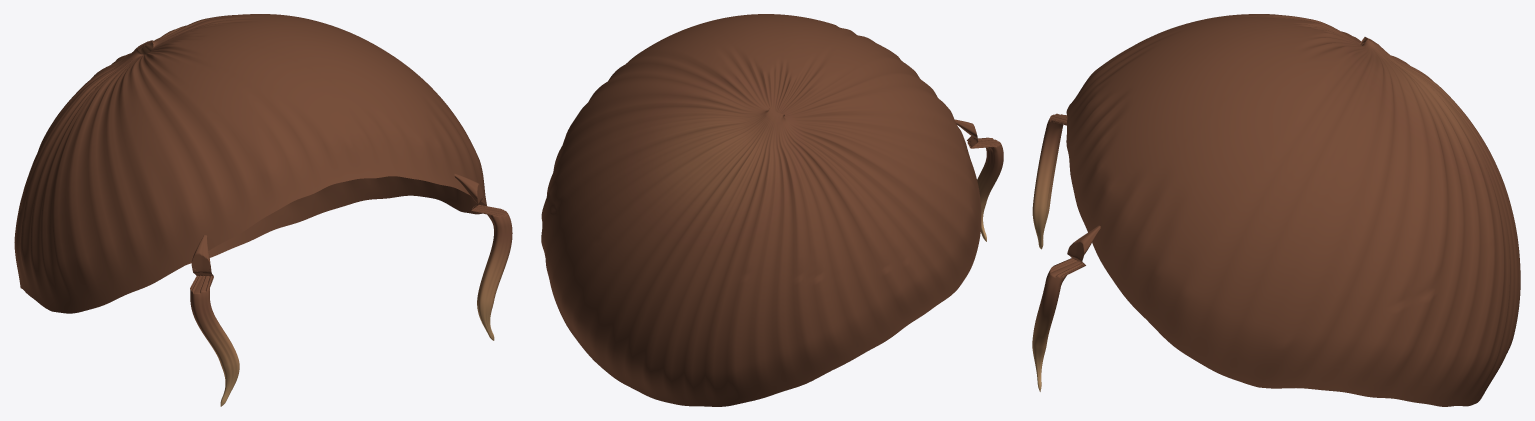
File: ponytail-beanie-fringe-ombre.glb
3 views of the same model, side by side, from view 1: azimuth 30°, elevation 25°; view 2: azimuth 150°, elevation 25°; view 3: azimuth 270°, elevation 25° (orthographic). The views are drawn at different scales.
Parts seen in each view (by area): view 1: 226 hair / Hair / crisp pulled roots220.002, 226 hair / Hair / sculpted front locks222.002; view 2: 226 hair / Hair / crisp pulled roots220.002, 226 hair / Hair / sculpted front locks222.002; view 3: 226 hair / Hair / crisp pulled roots220.002, 226 hair / Hair / sculpted front locks222.002.
Boxes of the visible parts, x1=… form: 226 hair / Hair / crisp pulled roots220.002: x1=14, y1=14, x2=486, y2=313; 226 hair / Hair / sculpted front locks222.002: x1=190, y1=173, x2=512, y2=406; 226 hair / Hair / crisp pulled roots220.002: x1=541, y1=14, x2=981, y2=406; 226 hair / Hair / sculpted front locks222.002: x1=954, y1=119, x2=1003, y2=241; 226 hair / Hair / crisp pulled roots220.002: x1=1066, y1=14, x2=1520, y2=406; 226 hair / Hair / sculpted front locks222.002: x1=1032, y1=113, x2=1100, y2=391.
Size of the model in its own units: 0.7726 by 0.5697 by 0.7364.
Materials: 2 (2 with a texture image).
